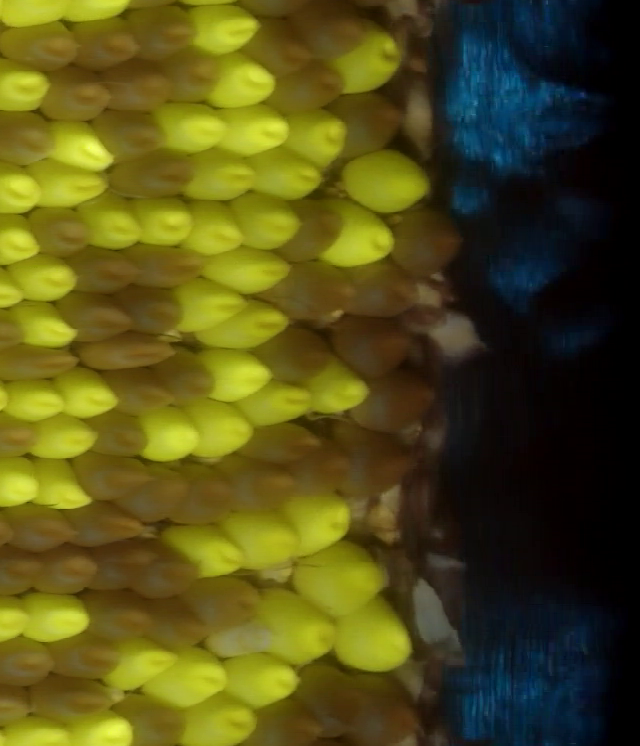fluorescent: (248, 583, 341, 666), (293, 544, 391, 620), (329, 598, 416, 676), (343, 148, 435, 212), (323, 196, 397, 267), (218, 509, 304, 567), (165, 519, 249, 578), (337, 23, 403, 97), (196, 299, 291, 350), (202, 246, 296, 295), (153, 644, 228, 704), (186, 396, 256, 460), (196, 345, 274, 401), (229, 193, 304, 251), (303, 351, 371, 414), (281, 490, 351, 551), (208, 54, 280, 113), (222, 653, 299, 708), (185, 3, 266, 55), (153, 98, 229, 153), (172, 276, 245, 333), (78, 192, 146, 251), (53, 361, 122, 419), (178, 695, 258, 744), (48, 118, 117, 174), (109, 634, 178, 690), (137, 404, 202, 462), (185, 153, 256, 206), (220, 102, 292, 154), (23, 590, 92, 644), (248, 149, 324, 198), (183, 196, 244, 257), (288, 111, 351, 170), (244, 382, 318, 429), (12, 299, 80, 350), (11, 250, 78, 301), (33, 159, 111, 202), (0, 55, 53, 117), (134, 195, 195, 248), (3, 374, 67, 422), (32, 457, 91, 509), (35, 416, 101, 462), (0, 156, 45, 217), (0, 211, 43, 267), (0, 455, 38, 508), (0, 592, 30, 644)
nonfluorescent: (330, 418, 423, 495), (195, 578, 276, 660), (385, 201, 465, 270), (351, 667, 425, 741), (354, 369, 433, 435), (329, 87, 404, 156), (269, 261, 358, 318), (334, 314, 413, 378), (298, 666, 366, 737), (106, 148, 193, 201), (283, 196, 350, 264), (170, 460, 240, 523), (62, 496, 148, 546), (265, 62, 344, 116), (129, 241, 207, 295), (225, 454, 296, 513), (87, 106, 169, 157), (58, 290, 134, 345), (32, 676, 111, 728), (267, 324, 333, 386), (241, 16, 309, 76), (297, 1, 365, 61), (70, 449, 153, 498), (130, 4, 197, 64), (93, 60, 170, 112), (78, 334, 186, 371), (6, 501, 81, 554), (354, 257, 420, 317), (111, 695, 190, 745), (24, 203, 93, 260), (69, 244, 141, 297), (35, 70, 111, 120), (71, 17, 140, 72), (127, 465, 191, 523), (1, 24, 76, 72), (118, 285, 180, 343), (144, 543, 202, 603), (86, 590, 150, 644), (86, 409, 151, 461), (162, 45, 222, 101), (288, 445, 354, 495), (0, 108, 55, 166), (101, 367, 170, 413), (55, 634, 122, 681), (0, 638, 62, 688), (39, 548, 97, 601), (0, 344, 82, 381), (151, 596, 207, 649), (197, 576, 258, 624), (243, 422, 320, 460), (158, 351, 214, 403), (96, 538, 151, 588), (0, 414, 44, 460), (0, 549, 41, 597), (0, 681, 33, 723)
